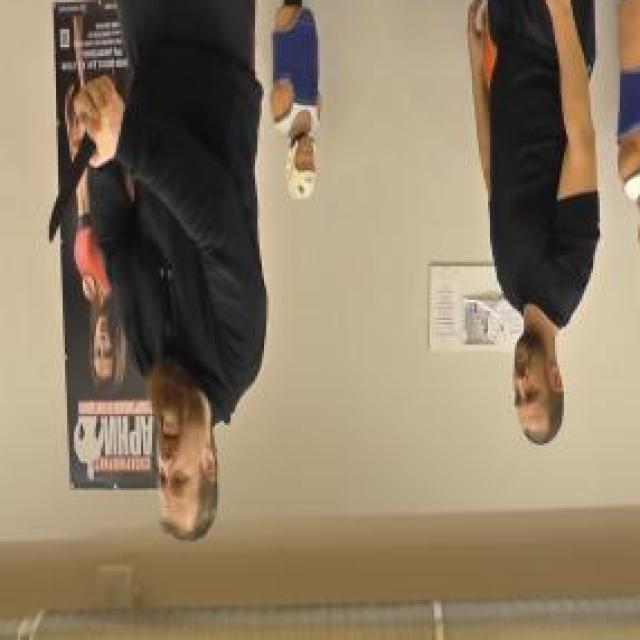knife: (48, 73, 116, 253)
